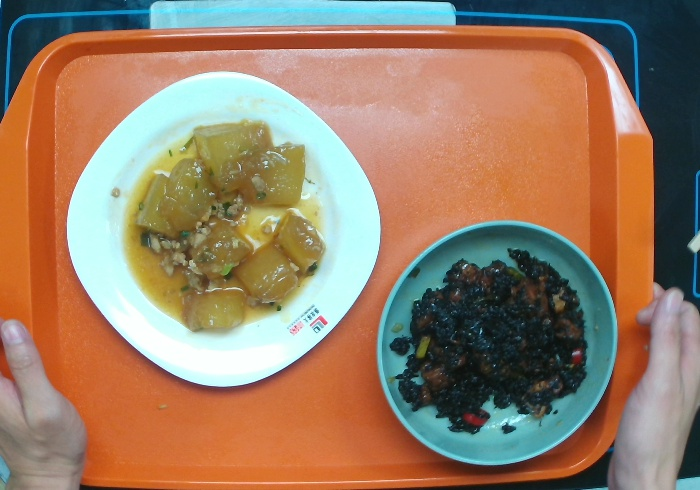ZNLD-Qing_Hua_Yuan_Wan: (379, 221, 626, 476)
ZNLD-Yuan_Jiao_Pan: (65, 68, 389, 393)
